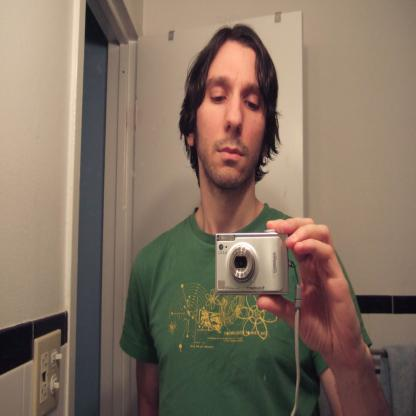Camera: (217, 231, 290, 296)
